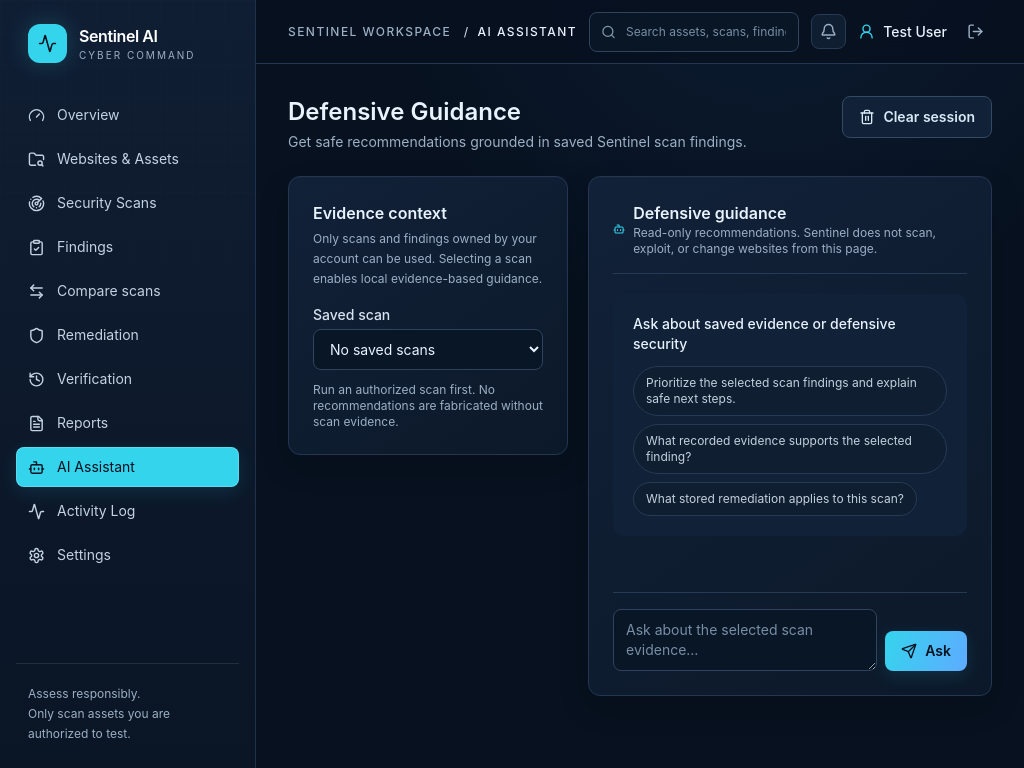
Sentinel AI application shell › sends general questions to the assistant without inventing scan context
Type "How should I harden privileged accounts?" into the text box named "Ask for defensive guidance". click: (745, 640)
box: [613,609,877,671]
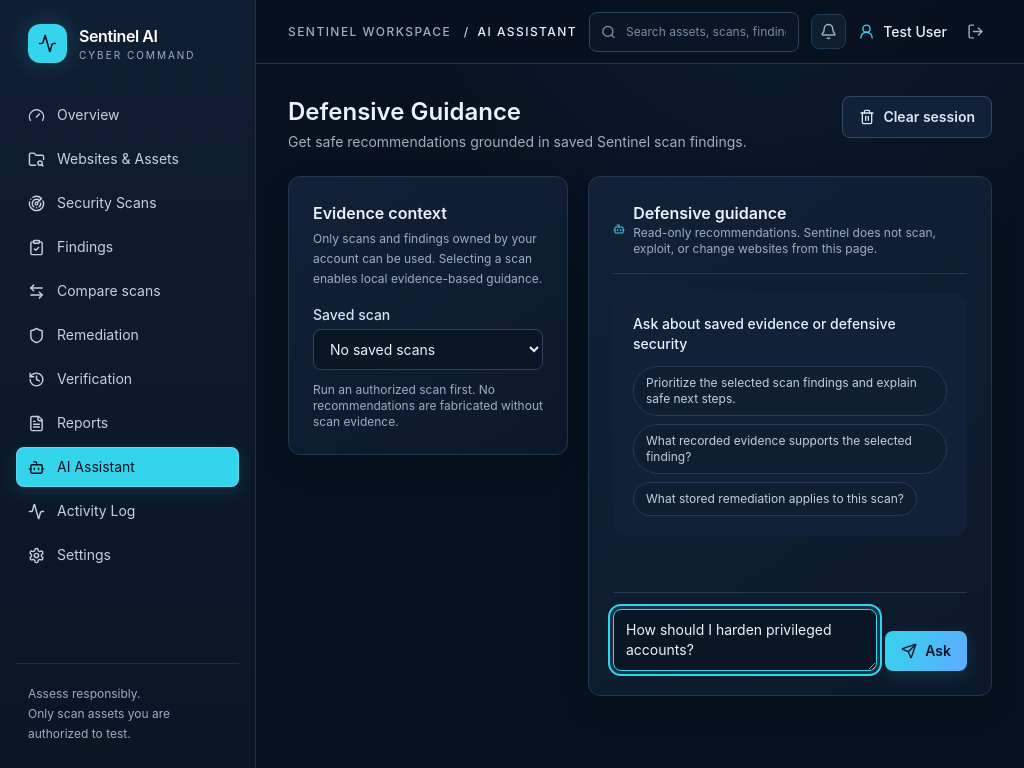
Click the button "Ask". click: (926, 651)
box: [885,631,967,671]
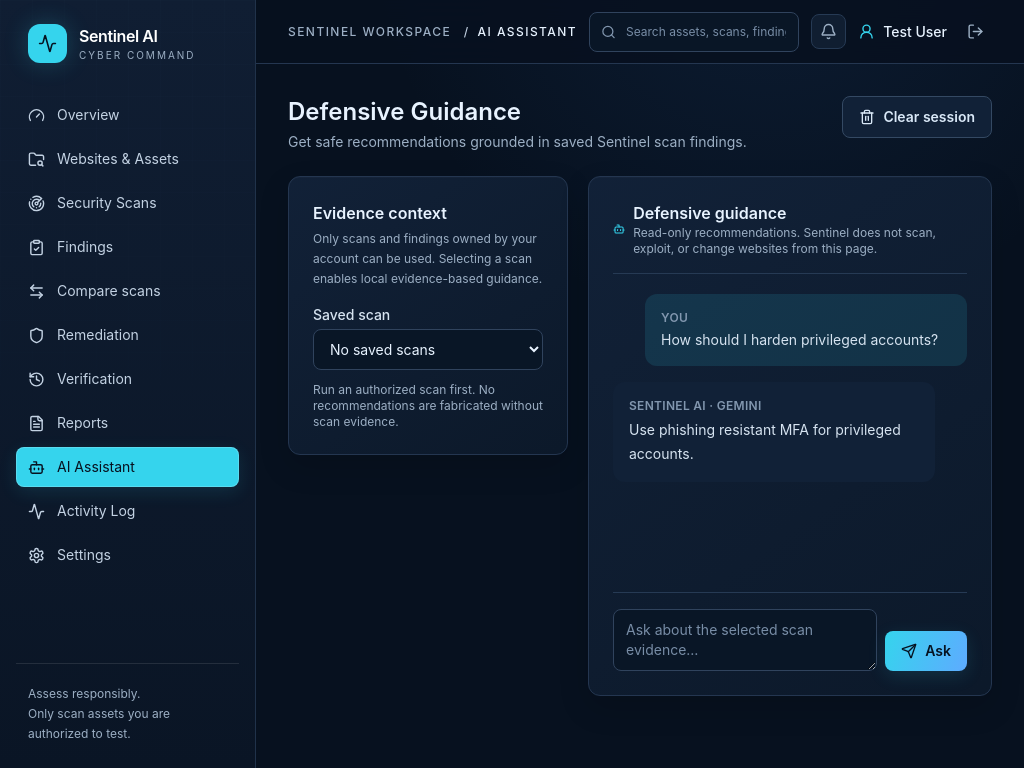
Check: the text "Use phishing resistant MFA for privileged accounts." is shown, box [629,418,919,466]
